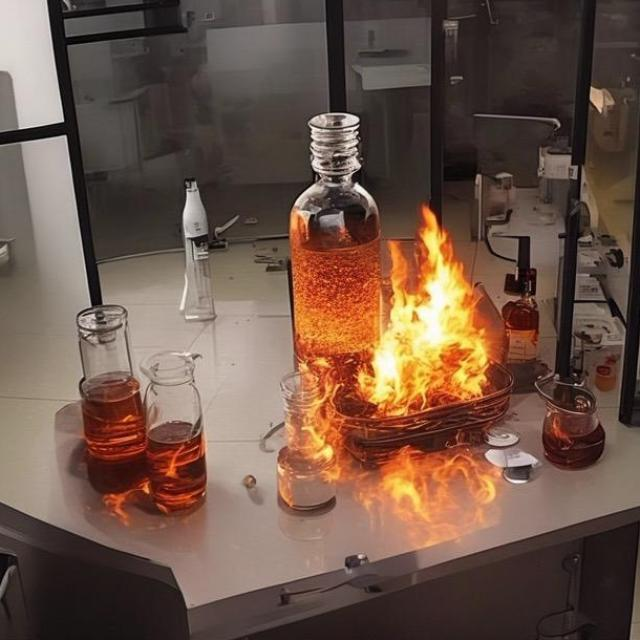smoke: (354, 202, 496, 416)
